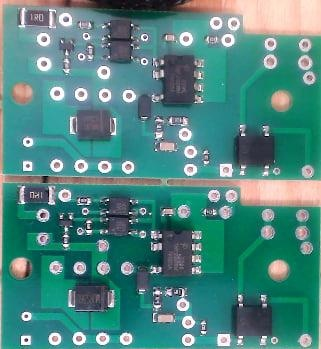chip-capacitor: (152, 312, 177, 324), (153, 141, 180, 152), (161, 32, 178, 43), (160, 207, 177, 217)
chip-resistor: (15, 184, 57, 207), (17, 7, 58, 29), (166, 114, 191, 127), (151, 286, 163, 312), (164, 285, 190, 297), (154, 115, 165, 141), (76, 20, 95, 30), (85, 43, 95, 62), (203, 34, 220, 45), (76, 196, 93, 207), (201, 148, 211, 166), (84, 218, 94, 236), (200, 207, 218, 217), (199, 319, 209, 337), (61, 233, 71, 250), (63, 58, 72, 76)
diode: (68, 108, 118, 141), (67, 283, 117, 314), (135, 264, 150, 296), (137, 93, 153, 122)
ic: (151, 53, 206, 106), (149, 228, 204, 277), (235, 122, 276, 178), (234, 293, 273, 347), (101, 19, 141, 43), (101, 41, 141, 64), (99, 197, 139, 217), (99, 217, 139, 236)
transistor: (59, 37, 76, 58), (58, 212, 75, 233)
